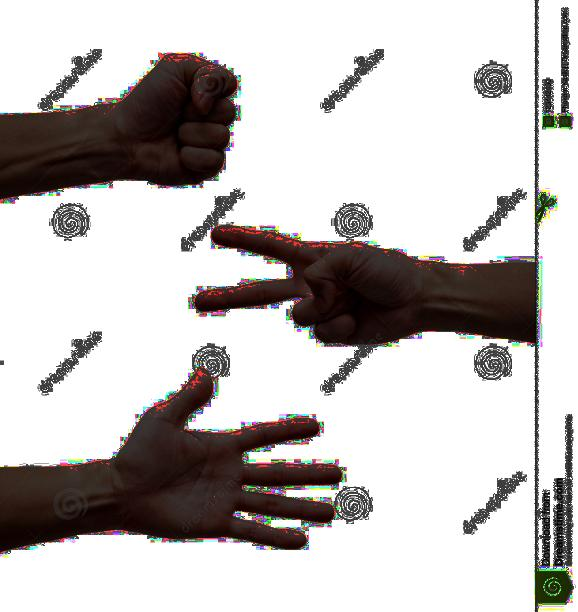Paper: (109, 363, 344, 555)
Rock: (115, 40, 247, 192)
Scissors: (181, 210, 442, 361)
